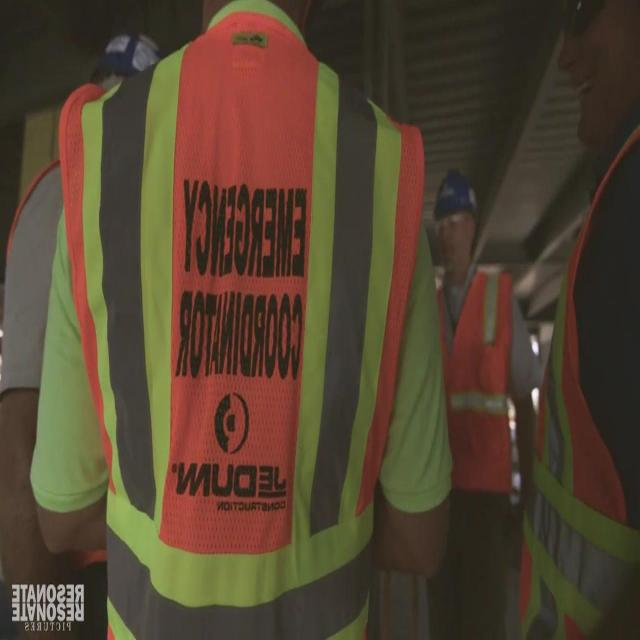Reflective-Jacket: (0, 4, 440, 638), (518, 102, 640, 640), (429, 259, 527, 513)
Safety-Helmet: (427, 159, 487, 235)
